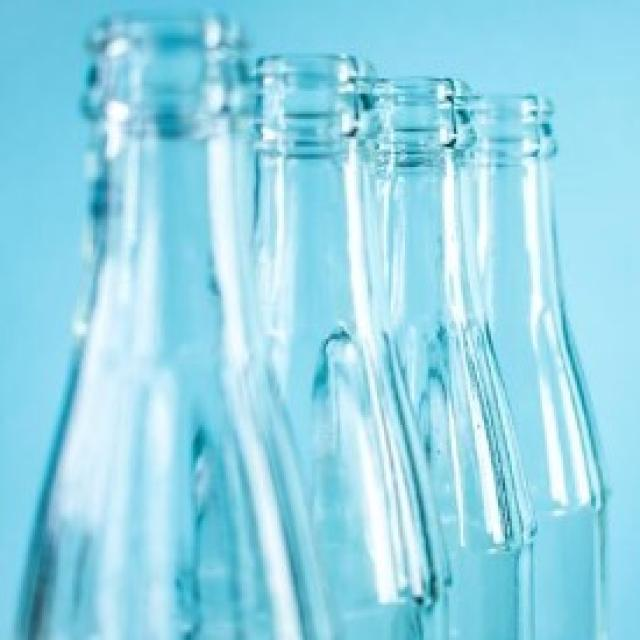electronic: (20, 10, 613, 640)
